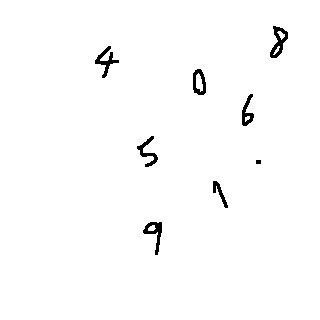.: (249, 156, 273, 171)
0: (183, 66, 212, 105)
1: (209, 173, 239, 220)
4: (79, 42, 126, 78)
5: (124, 129, 175, 178)
6: (235, 83, 259, 128)
8: (262, 14, 294, 65)
9: (133, 212, 172, 263)
